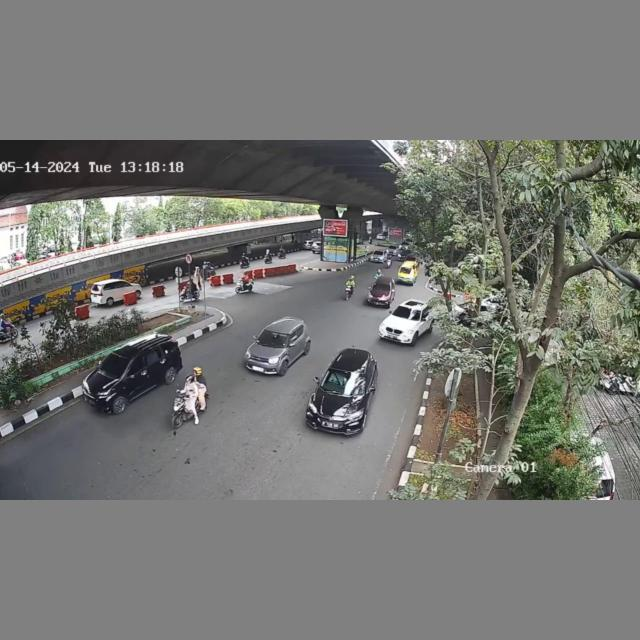windshield: (321, 368, 366, 394), (253, 325, 290, 348)
